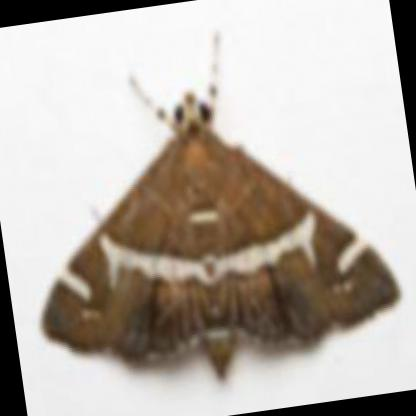Leaf Webber: (35, 88, 398, 384)
